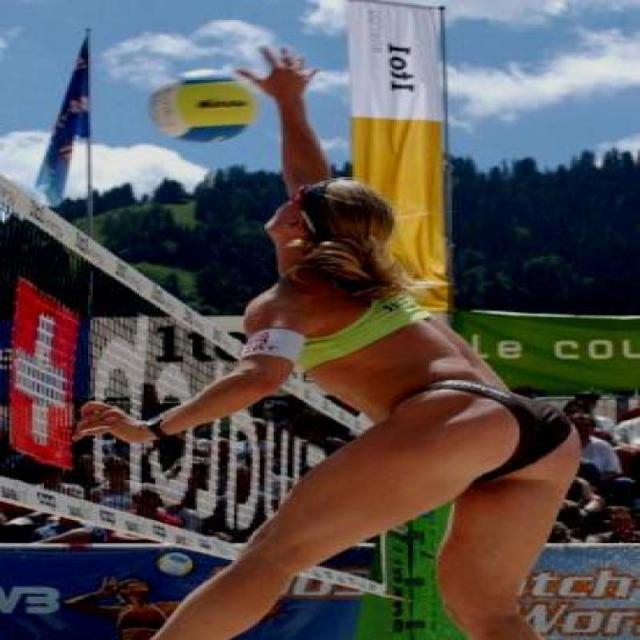volleyball: (144, 66, 262, 144), (158, 552, 192, 578)
